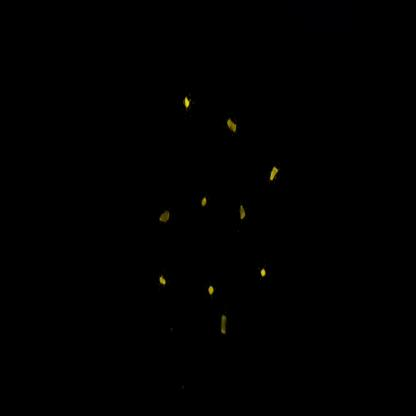PE: (176, 87, 198, 125), (194, 186, 213, 221), (155, 264, 174, 298), (255, 257, 273, 289), (202, 278, 220, 303)
PP: (154, 195, 180, 241), (265, 147, 288, 197), (233, 193, 258, 230), (205, 310, 231, 345), (223, 112, 247, 149)
